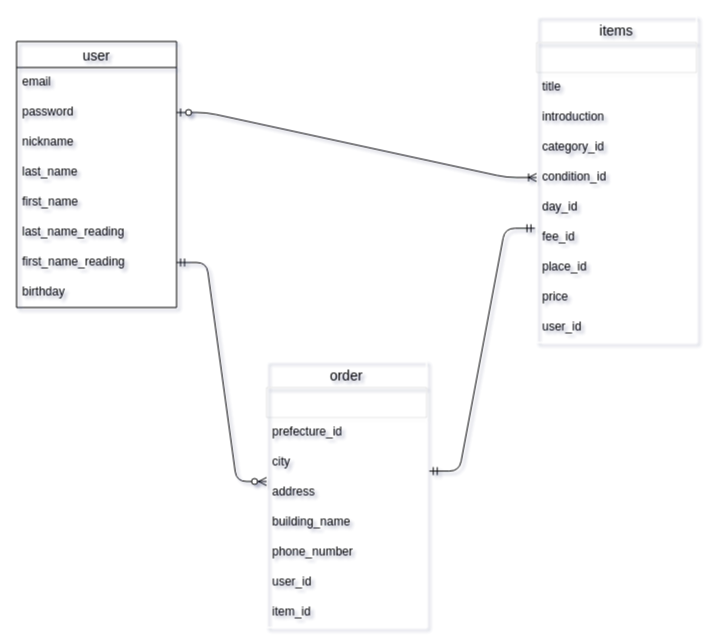
Some shapes in this 713 by 644 pixel diagram are drawn without their labels. The centre of each missing label's shape, as x and y in pixels:
"image" goes at pixel 616 57.
"postal_code" goes at pixel 346 402.
